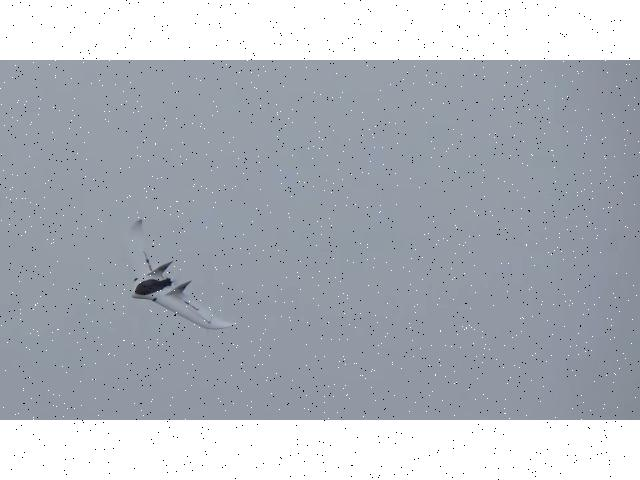Anti-Drone: (128, 218, 234, 329)
